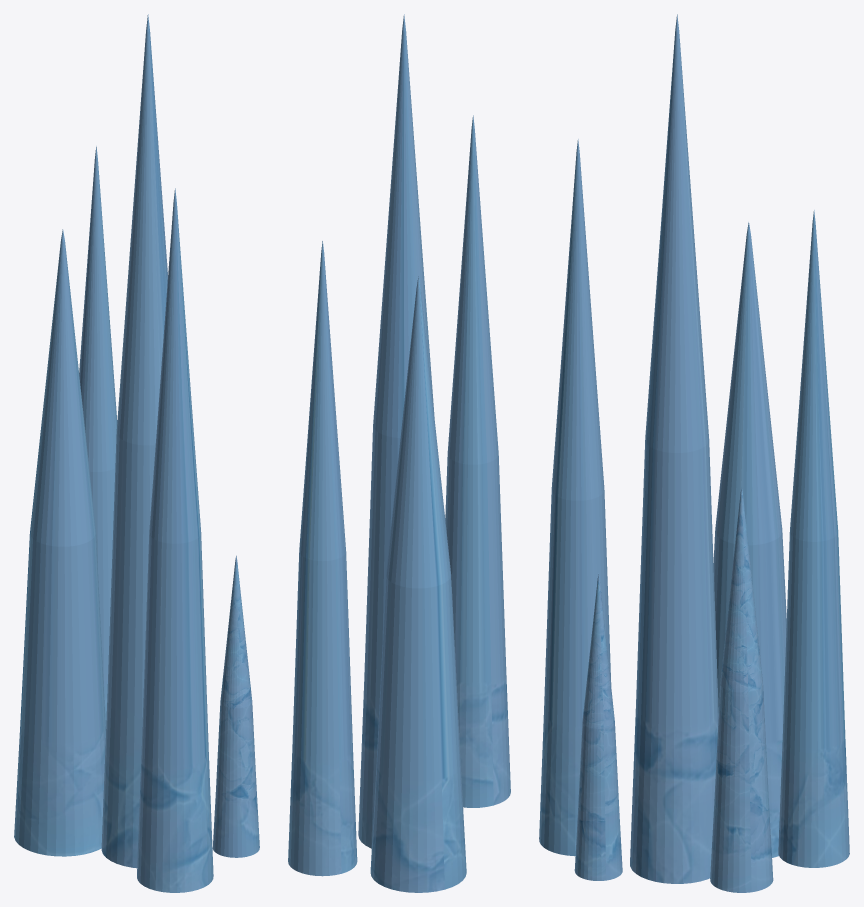
The model's file is Ice Tunnel Penguin Game Stalagmites.fbx.
The picture shows the model from 3 angles, left to right: view 1: azimuth 30°, elevation 25°; view 2: azimuth 150°, elevation 25°; view 3: azimuth 270°, elevation 25°; orthographic projection. The views are drawn at different scales.
Parts seen in each view (by area): view 1: Stalagmite Part 1; view 2: Stalagmite Part 1; view 3: Stalagmite Part 1.
Part boxes in pixels (x1,y1,x2,y2): Stalagmite Part 1: (14,14,259,892); Stalagmite Part 1: (288,14,510,892); Stalagmite Part 1: (539,14,849,892).
Bounding box in the file's own units: 114 × 538 × 178.
